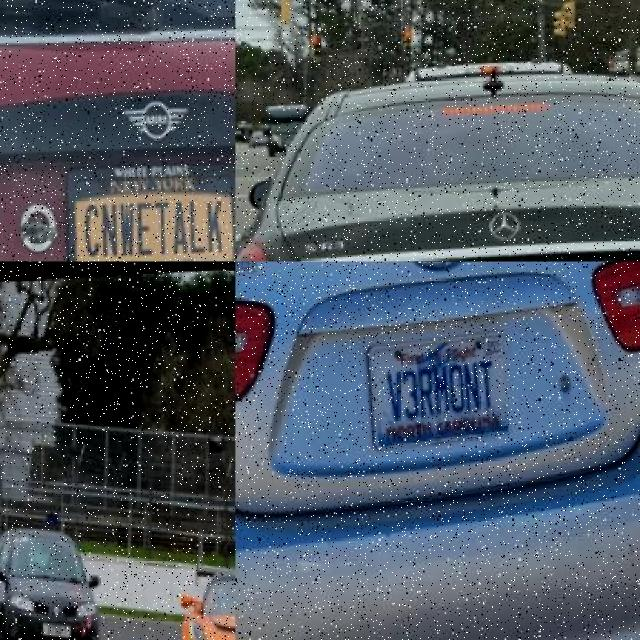licenseplate: (369, 324, 517, 446), (70, 158, 235, 262), (47, 622, 75, 635)
